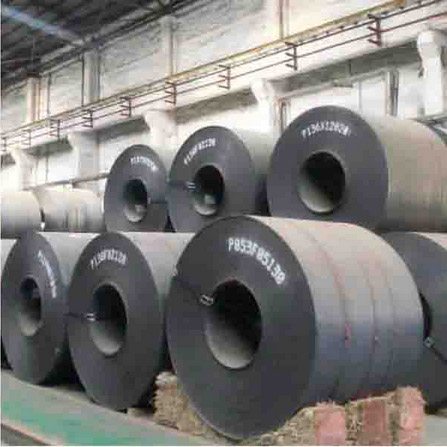steel-coil: (49, 137, 402, 373), (9, 215, 403, 382), (94, 118, 415, 223)
